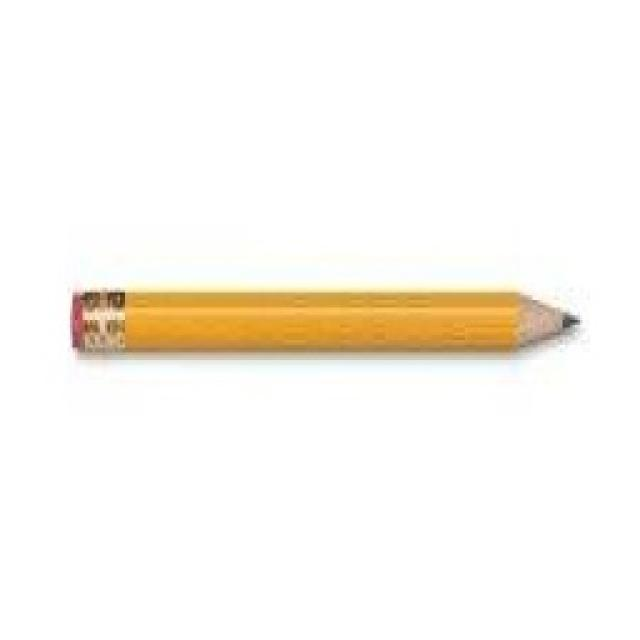pencil: (65, 280, 583, 358)
